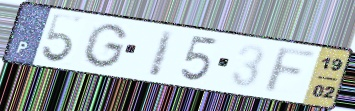3: (229, 43, 269, 91)
5: (39, 11, 90, 65), (179, 33, 220, 83)
F: (259, 45, 322, 97)
G: (79, 21, 131, 70)
I: (145, 28, 178, 79)
